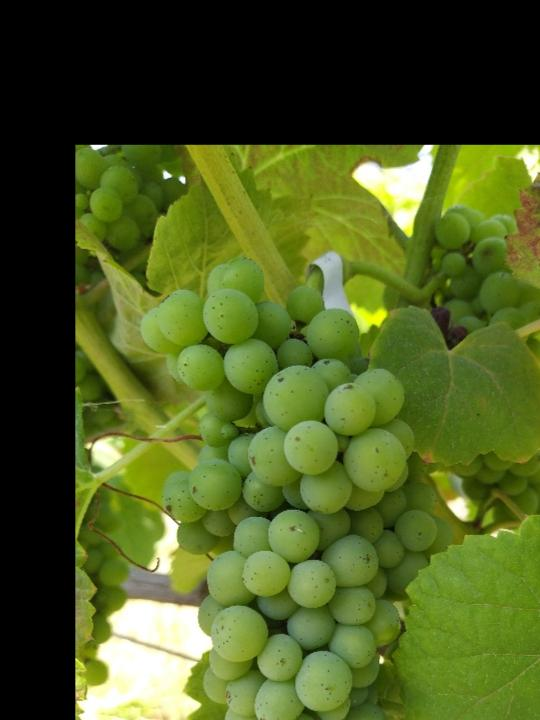grape: (142, 255, 441, 720)
